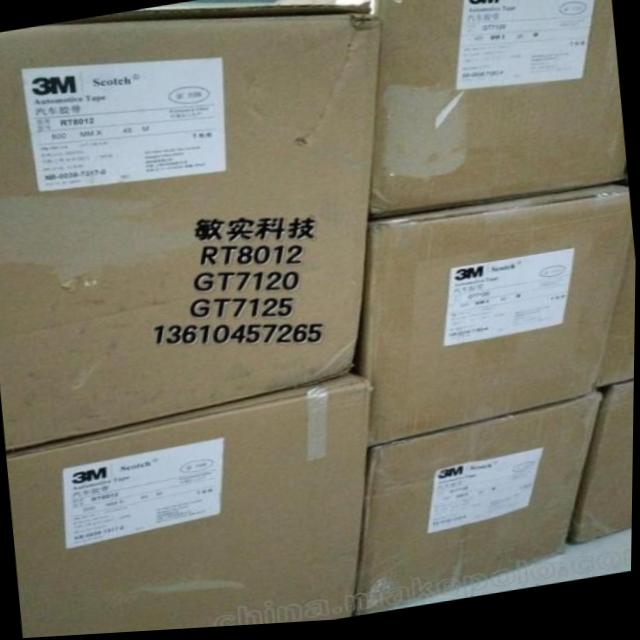box: (0, 5, 380, 453), (7, 377, 375, 639), (273, 0, 628, 221), (360, 191, 634, 453), (356, 399, 604, 619), (570, 388, 635, 552), (599, 243, 636, 393)
